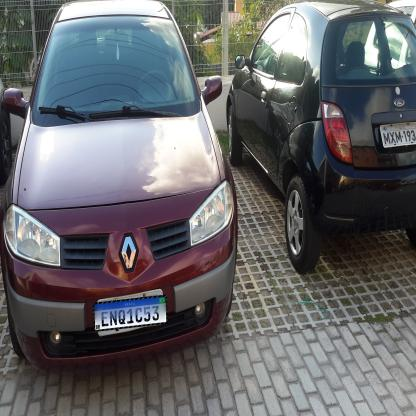PlacaM: (93, 294, 168, 332)
